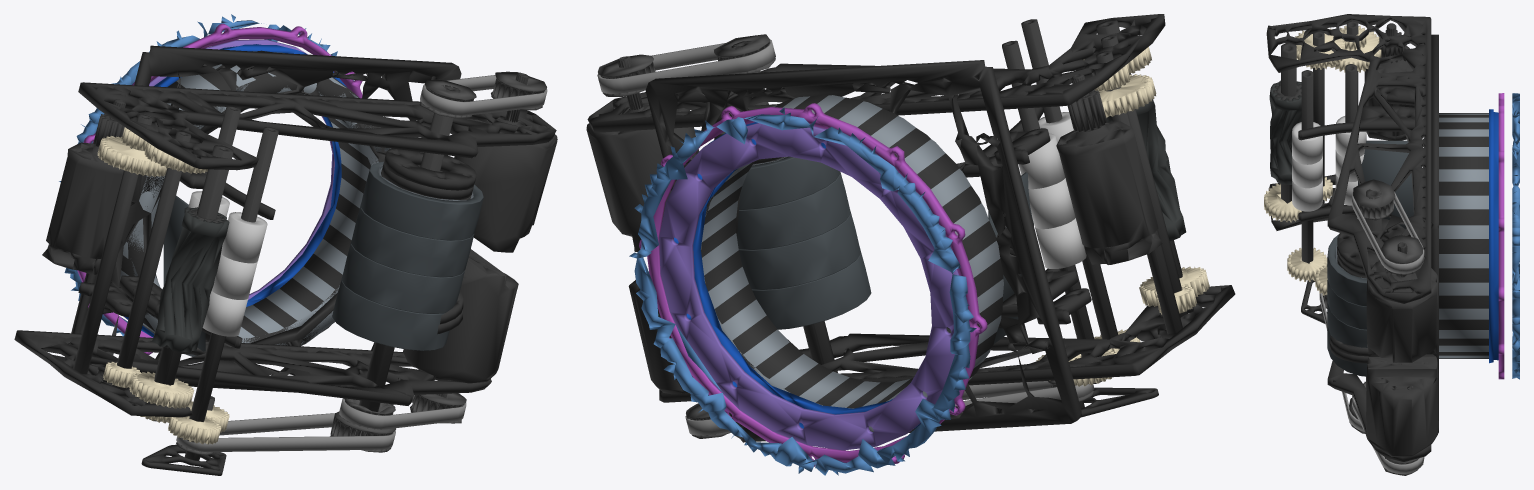
3 renders of one model, left to right at view 1: azimuth 30°, elevation 25°; view 2: azimuth 150°, elevation 25°; view 3: azimuth 270°, elevation 25°, orthographic. The views are drawn at different scales.
Parts seen in each view (by area): view 1: color_5, color_8, color_11, color_10, color_1, color_7, color_12, color_9, color_6, color_4, color_3, color_0 (+1 smaller); view 2: color_5, color_8, color_2, color_11, color_0, color_1, color_4, color_10, color_9, color_7, color_3, color_12 (+1 smaller); view 3: color_5, color_8, color_1, color_11, color_7, color_9, color_6, color_3, color_0, color_12, color_10, color_4.
Boxes of the visible parts, box(x1,y1,x2,y2) form: color_5: box(14, 45, 556, 475); color_8: box(42, 72, 557, 465); color_11: box(163, 161, 483, 351); color_10: box(176, 75, 547, 451); color_1: box(120, 51, 390, 356); color_7: box(97, 127, 229, 444); color_12: box(152, 207, 229, 352); color_9: box(188, 191, 267, 336); color_6: box(176, 71, 546, 455); color_4: box(77, 23, 362, 354); color_3: box(125, 44, 346, 337); color_0: box(59, 14, 353, 336); color_5: box(587, 14, 1235, 442); color_8: box(586, 19, 1188, 436); color_2: box(659, 123, 958, 450); color_11: box(737, 156, 1033, 343); color_0: box(629, 107, 976, 475); color_1: box(701, 95, 1003, 431); color_4: box(639, 103, 987, 466); color_10: box(597, 39, 1094, 435); color_9: box(1018, 112, 1086, 268); color_7: box(1036, 46, 1209, 386); color_3: box(674, 122, 920, 428); color_12: box(1106, 99, 1186, 241); color_5: box(1266, 14, 1488, 461); color_8: box(1273, 20, 1438, 456); color_1: box(1439, 113, 1488, 358); color_11: box(1327, 140, 1413, 376); color_7: box(1264, 25, 1381, 295); color_9: box(1292, 116, 1366, 211); color_6: box(1322, 179, 1423, 475); color_3: box(1489, 109, 1498, 363); color_0: box(1512, 93, 1519, 379); color_12: box(1269, 80, 1301, 184); color_10: box(1319, 191, 1424, 473); color_4: box(1498, 93, 1504, 379).
Bounding box in the file's own units: 0.3873 × 0.3 × 0.2092.
